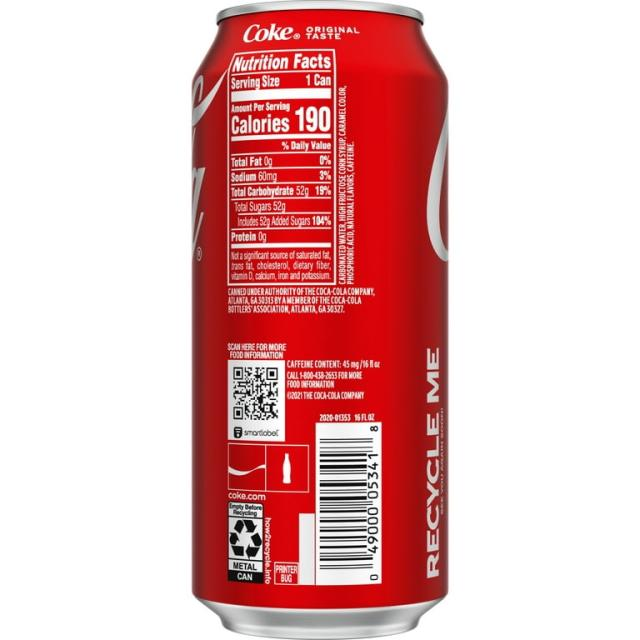cocacola: (191, 8, 450, 634)
